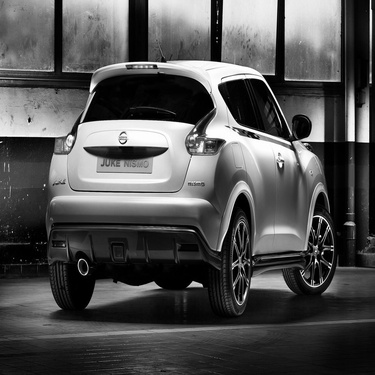car: (37, 56, 346, 321)
